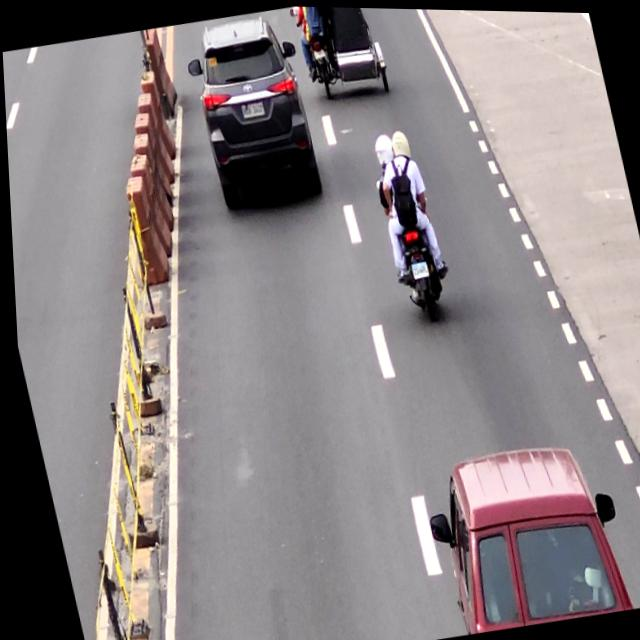Car: (411, 433, 633, 638), (178, 11, 327, 214)
License-Plate: (239, 99, 264, 118), (406, 258, 428, 278), (312, 46, 325, 58)
Tricycle: (373, 167, 453, 328), (288, 5, 392, 107)
